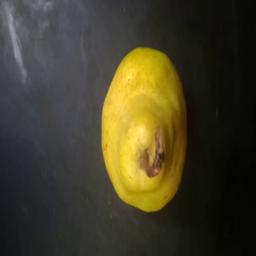Pear Fresh: (83, 45, 194, 216)
